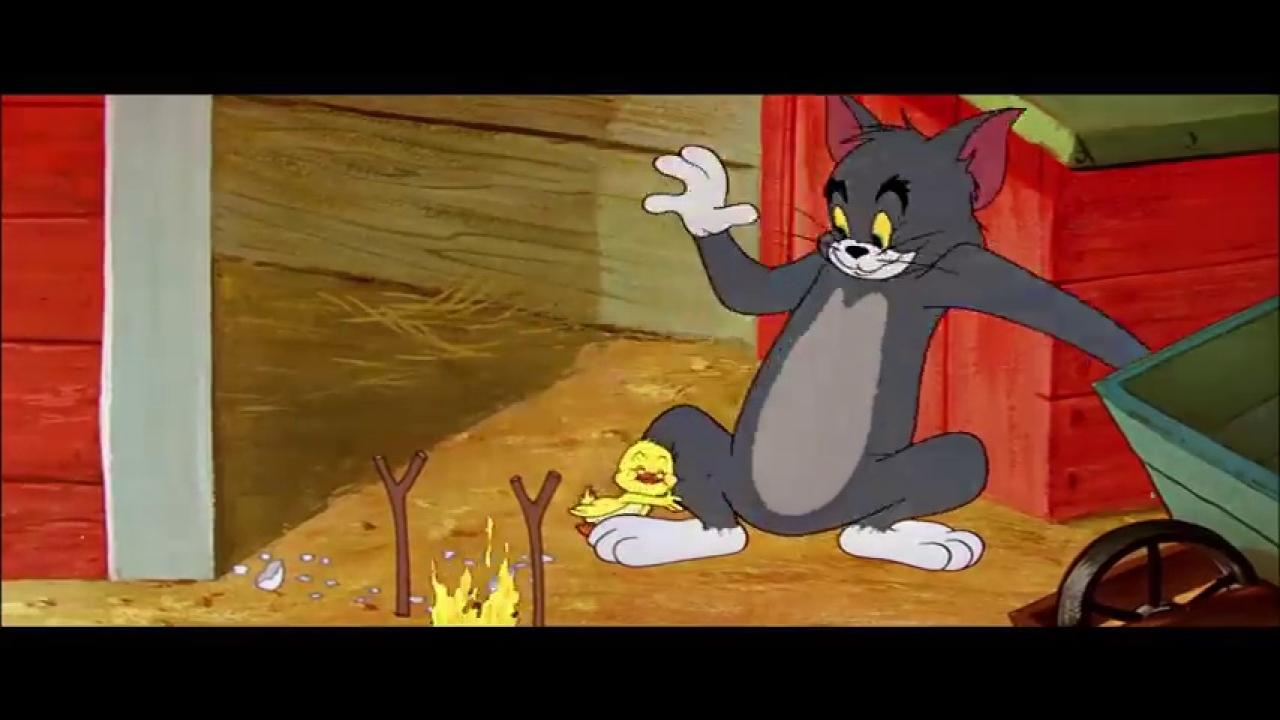Tom: (585, 92, 1154, 573)
